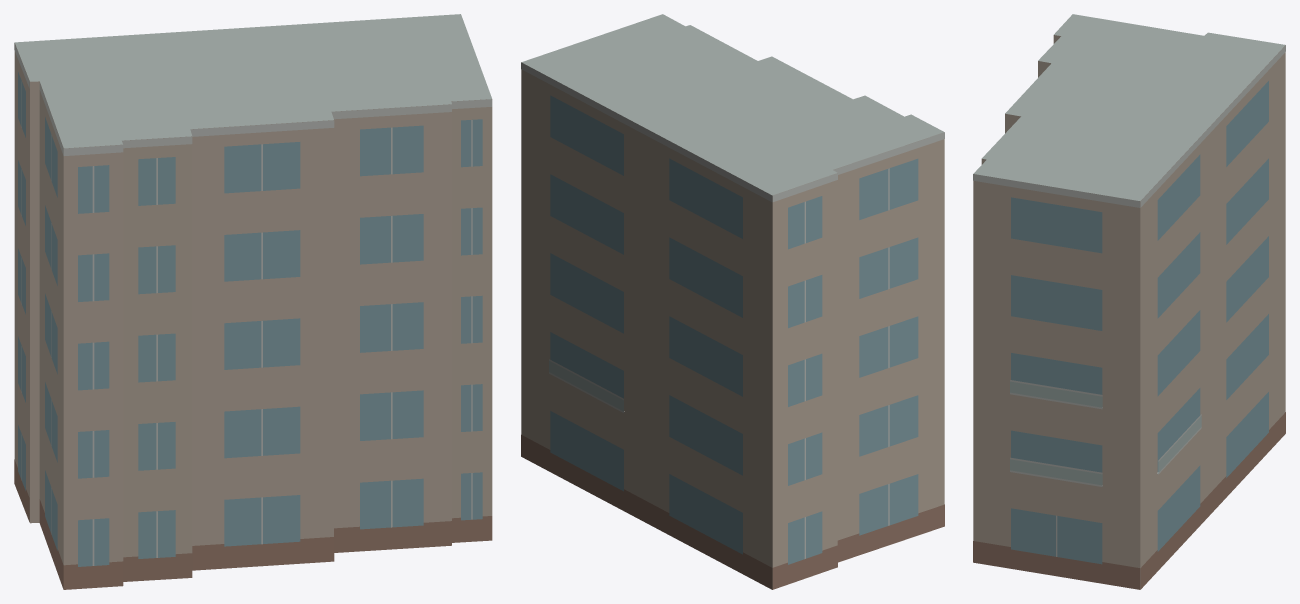
The model's file is survey-upis-32723459.glb.
3 views of the same model, side by side, from view 1: azimuth 30°, elevation 25°; view 2: azimuth 150°, elevation 25°; view 3: azimuth 270°, elevation 25° (orthographic). The views are drawn at different scales.
Parts seen in each view (by area): view 1: survey-upis-32723459.tmp; view 2: survey-upis-32723459.tmp; view 3: survey-upis-32723459.tmp.
Part boxes in pixels (bbox=[...]): survey-upis-32723459.tmp: bbox=[14, 14, 492, 589]; survey-upis-32723459.tmp: bbox=[521, 14, 944, 589]; survey-upis-32723459.tmp: bbox=[973, 14, 1285, 589].
Bounding box in the file's own units: 14.37 × 13.9 × 10.14.
